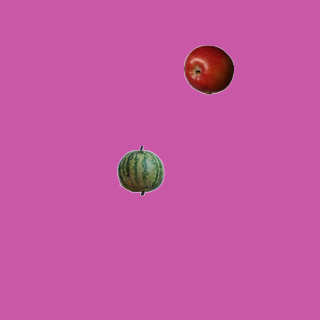Apple Braeburn: (183, 44, 233, 94)
Watermelon: (115, 145, 165, 195)
